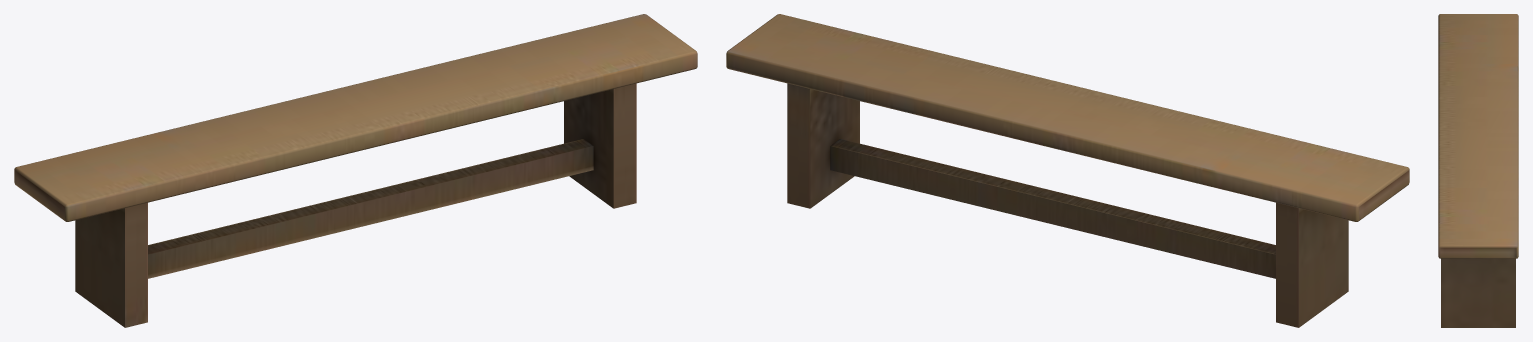
Rendered from bench_long.glb.
3 renders of one model, left to right at view 1: azimuth 30°, elevation 25°; view 2: azimuth 150°, elevation 25°; view 3: azimuth 270°, elevation 25°, orthographic. The views are drawn at different scales.
Visible parts, largest first — view 1: leg-1; view 2: leg-1; view 3: leg-1.
Boxes of the visible parts, box(x1,y1,x2,y2) form: leg-1: box(14, 14, 697, 327); leg-1: box(726, 14, 1409, 327); leg-1: box(1438, 14, 1518, 327).
Size of the model in its own units: 2.2 by 0.46 by 0.32.
Materials: 1 (1 with a texture image).
